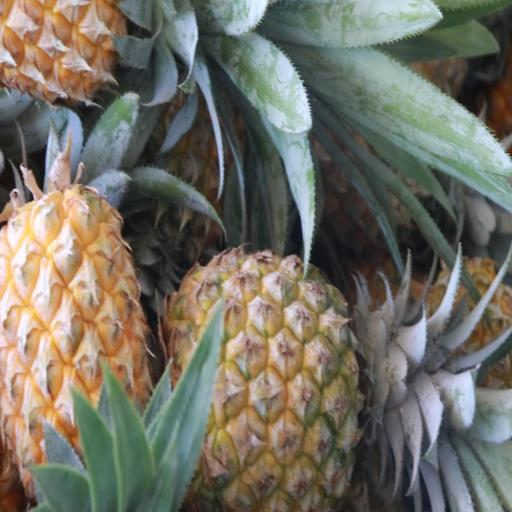Pineapple - v8 v1: (168, 251, 378, 512), (0, 170, 150, 507)
